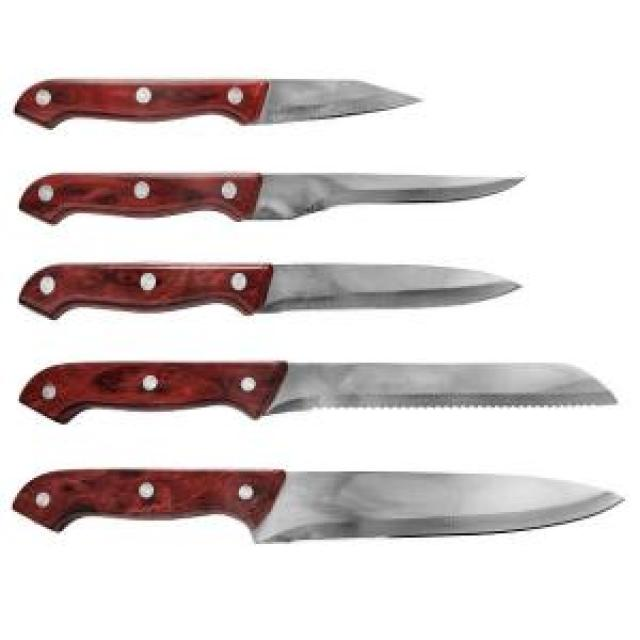knife: (15, 469, 625, 545), (21, 360, 625, 426), (15, 169, 528, 226), (19, 265, 523, 320), (17, 77, 424, 127)
